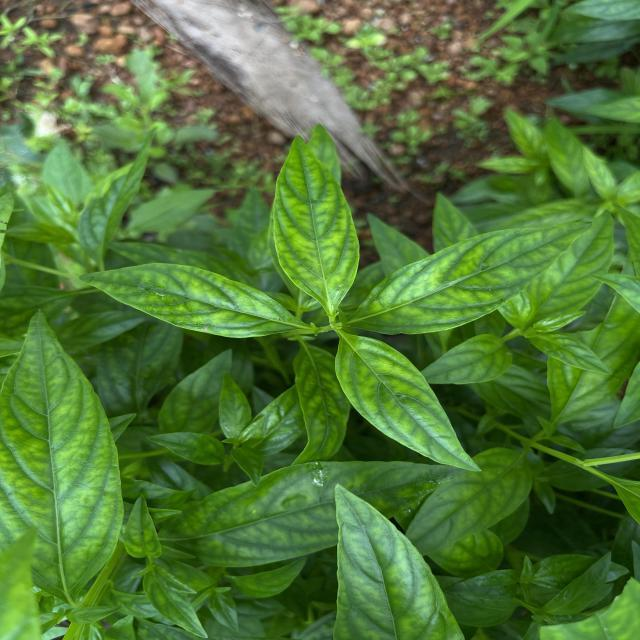Andrographis paniculata: (0, 308, 126, 600), (159, 460, 474, 570), (348, 218, 594, 338), (332, 332, 483, 473), (76, 260, 304, 340), (268, 134, 362, 309), (409, 447, 536, 555), (290, 342, 352, 467), (422, 331, 513, 388)
